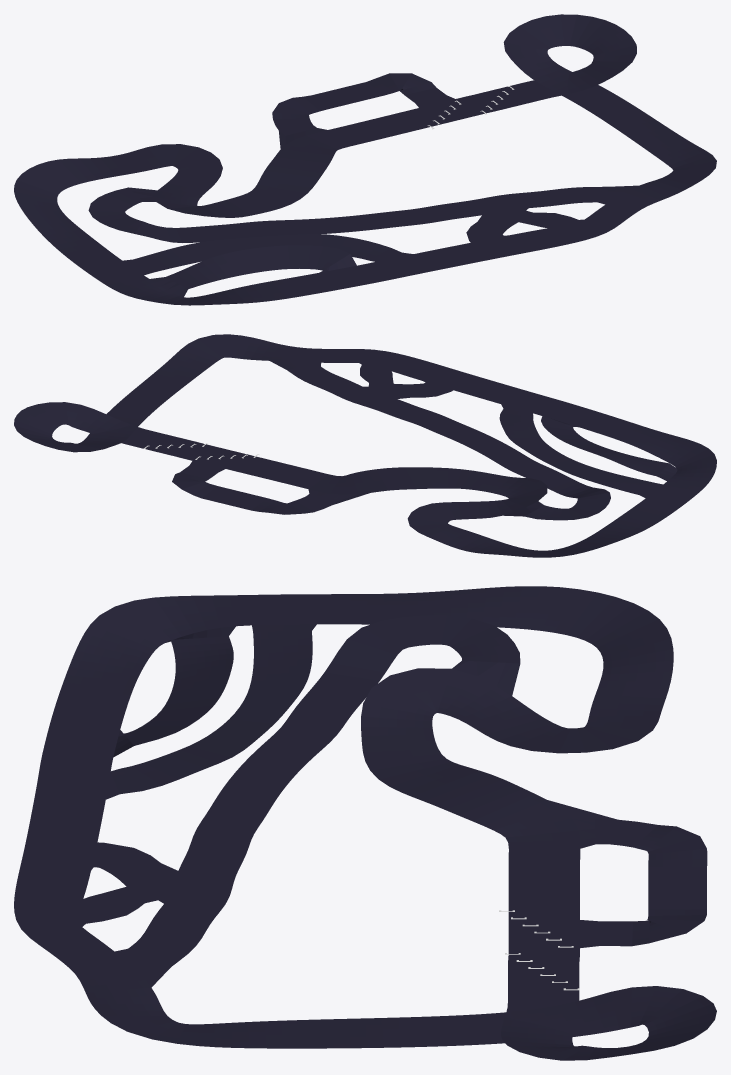
Rendered from GlobalVillage_01.fbx.
The picture shows the model from 3 angles, top to bottom: view 1: azimuth 30°, elevation 25°; view 2: azimuth 150°, elevation 25°; view 3: azimuth 270°, elevation 25°; orthographic projection. The views are drawn at different scales.
Visible parts, largest first — view 1: Road; view 2: Road; view 3: Road.
Boxes of the visible parts, x1,y1,x2,y2 form: Road: (14,14,716,305); Road: (14,334,716,557); Road: (14,586,716,1060).
Bounding box in the file's own units: 2778 × 106 × 1673.
